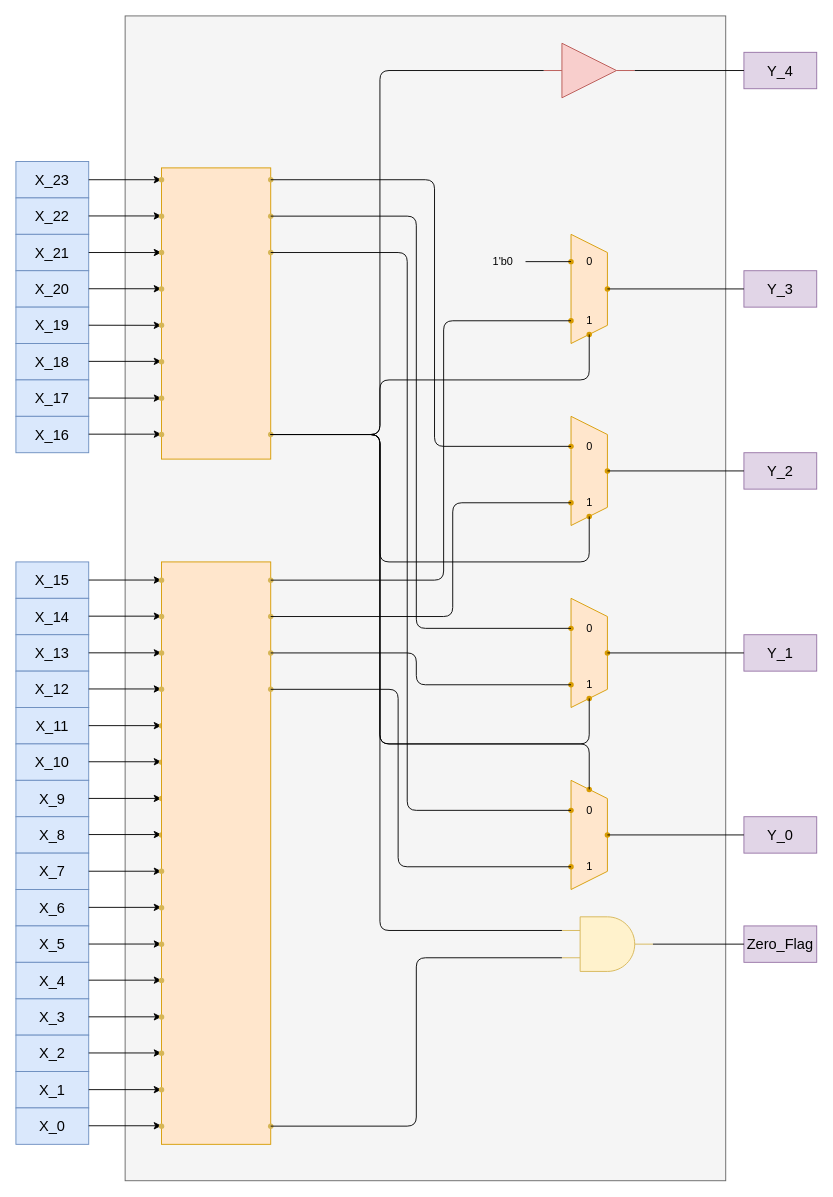
This 833x1197 diagram has some shape labels left out. Here are the shapes that lost their labels. From the top down, the box of each, then its label:
(161, 167, 271, 459): LOPD 8-bit
(161, 561, 271, 1144): LOPD 16-bit
